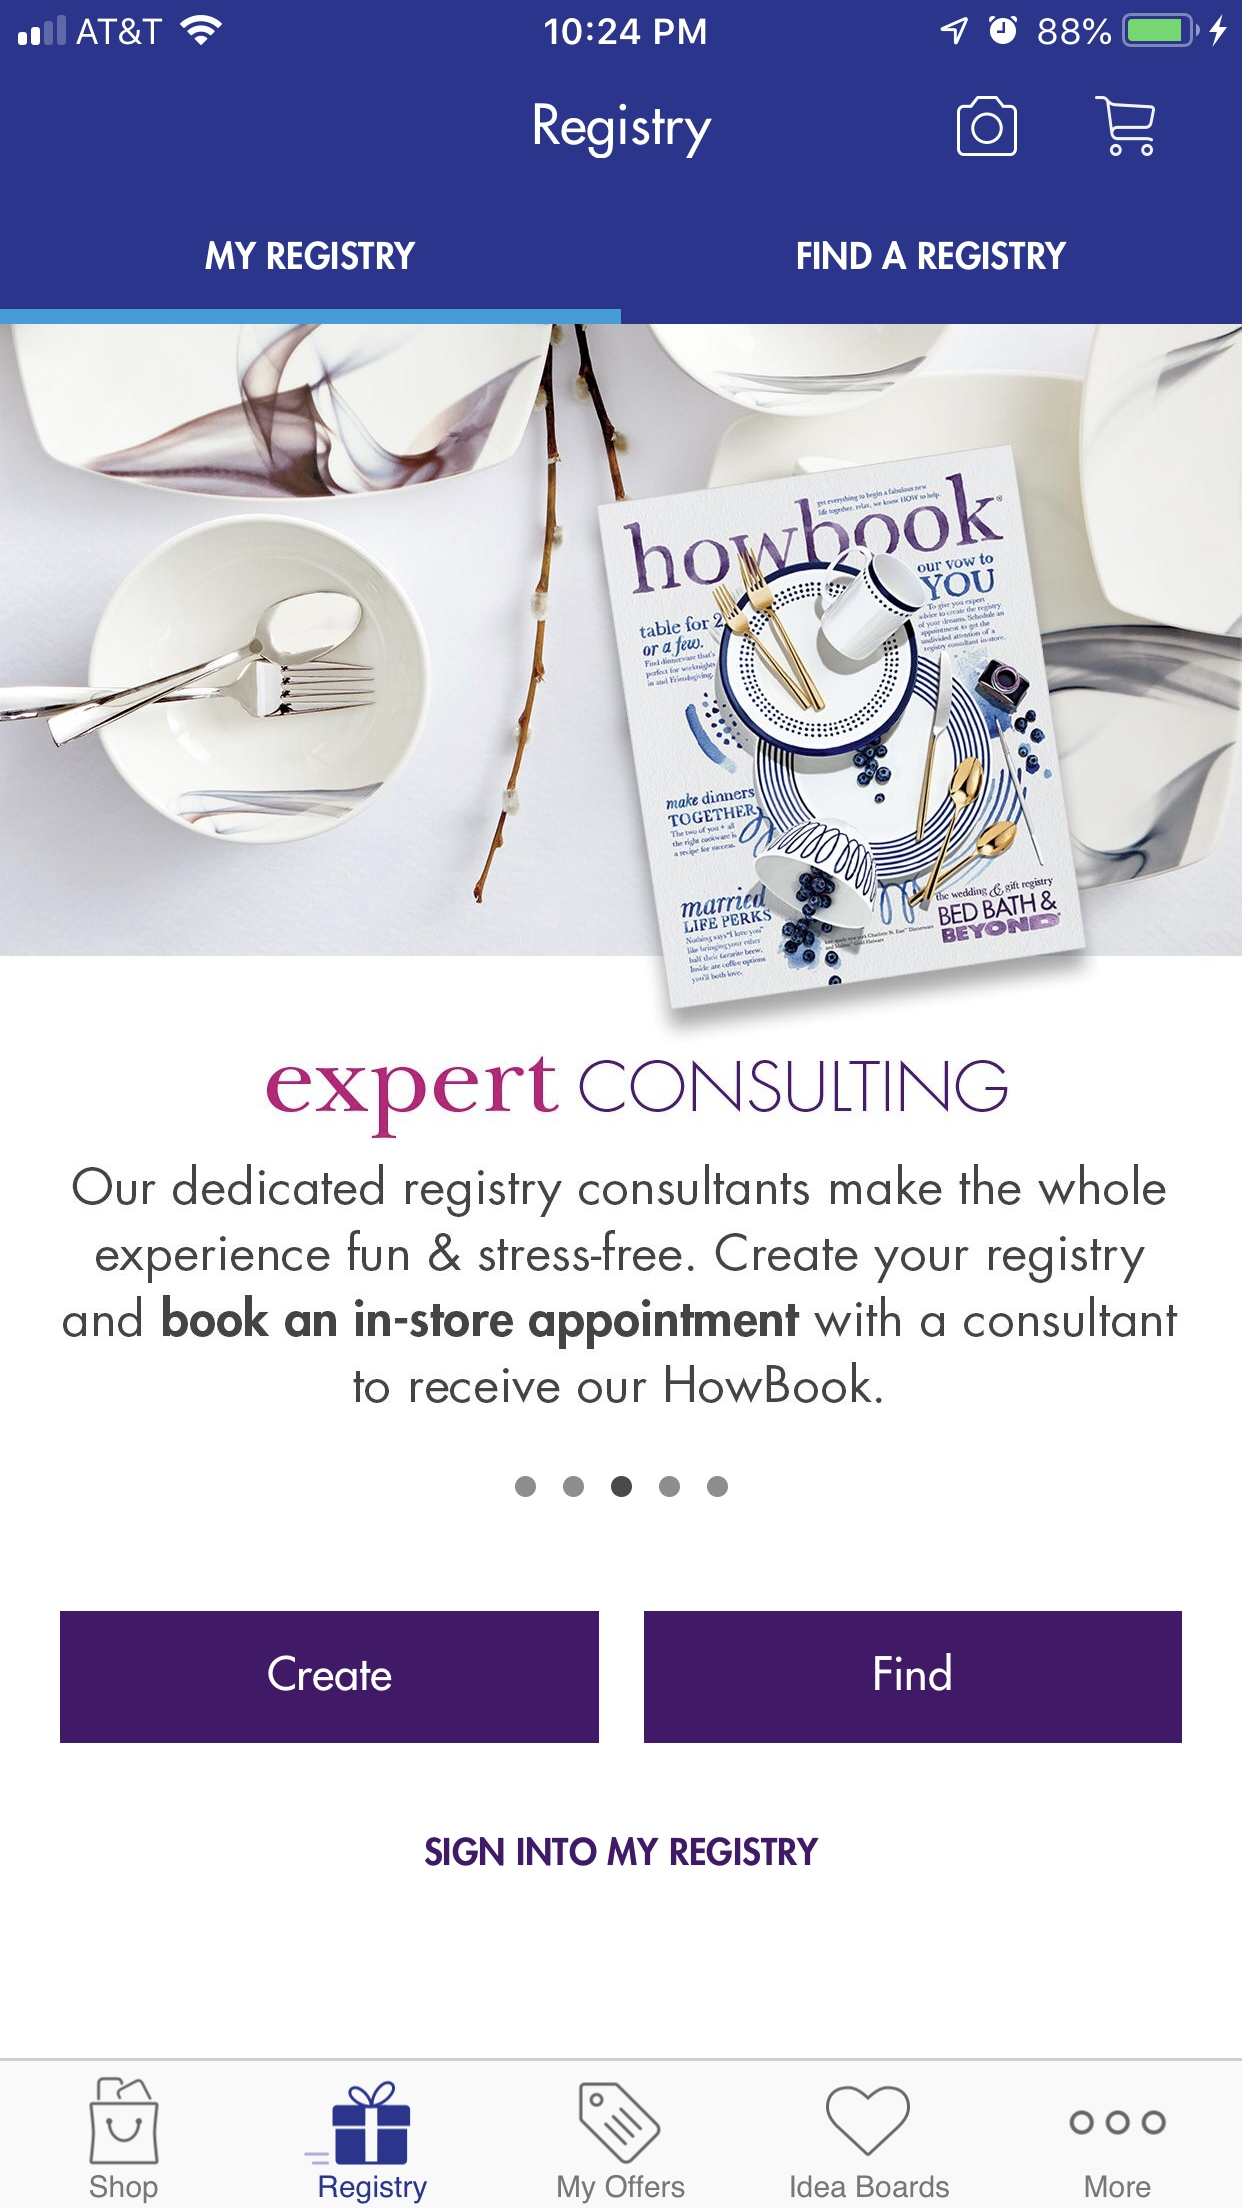Icon: (303, 2081, 411, 2166), (579, 2081, 663, 2164), (89, 2076, 161, 2166), (826, 2085, 911, 2156), (1093, 96, 1156, 158), (955, 96, 1018, 158), (1069, 2109, 1168, 2137)
Image: (2, 325, 1242, 1018)
PageIndicator: (516, 1474, 729, 1498)
Text: (64, 1165, 1178, 1404), (267, 1055, 1008, 1140), (425, 1836, 820, 1867), (534, 102, 714, 161), (798, 241, 1068, 271), (205, 241, 419, 271), (792, 2175, 949, 2199), (557, 2175, 685, 2203), (318, 2175, 429, 2205), (89, 2175, 159, 2203), (1084, 2175, 1153, 2199)
TextButton: (61, 1611, 601, 1744), (645, 1611, 1181, 1744)
UpperTaskBar: (2, 2, 1242, 49)
